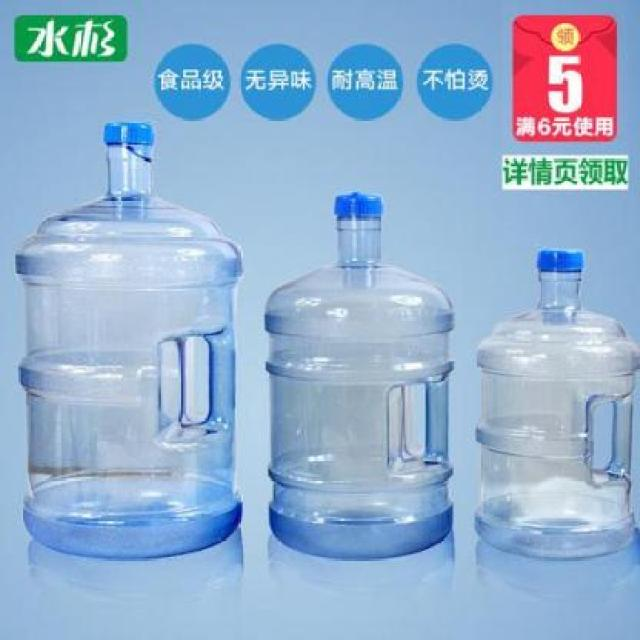coolerbottle: (11, 117, 249, 565), (263, 191, 463, 564), (471, 245, 640, 564)
